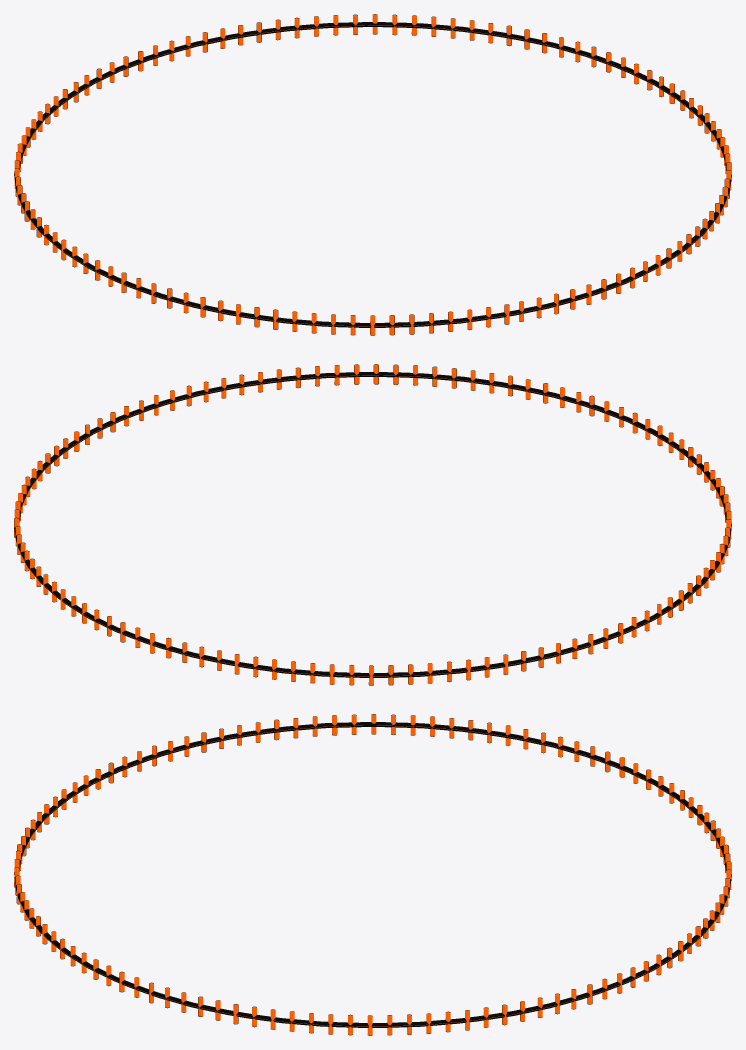
File: Fence.fbx
3 renders of one model, top to bottom at view 1: azimuth 30°, elevation 25°; view 2: azimuth 150°, elevation 25°; view 3: azimuth 270°, elevation 25°, orthographic.
Parts seen in each view (by area): view 1: Fence; view 2: Fence; view 3: Fence.
Boxes of the visible parts, x1,y1,x2,y2 form: Fence: (14, 14, 731, 335); Fence: (14, 364, 731, 685); Fence: (14, 714, 731, 1035).
Size of the model in its own units: 58.4 by 58.39 by 1.66.
